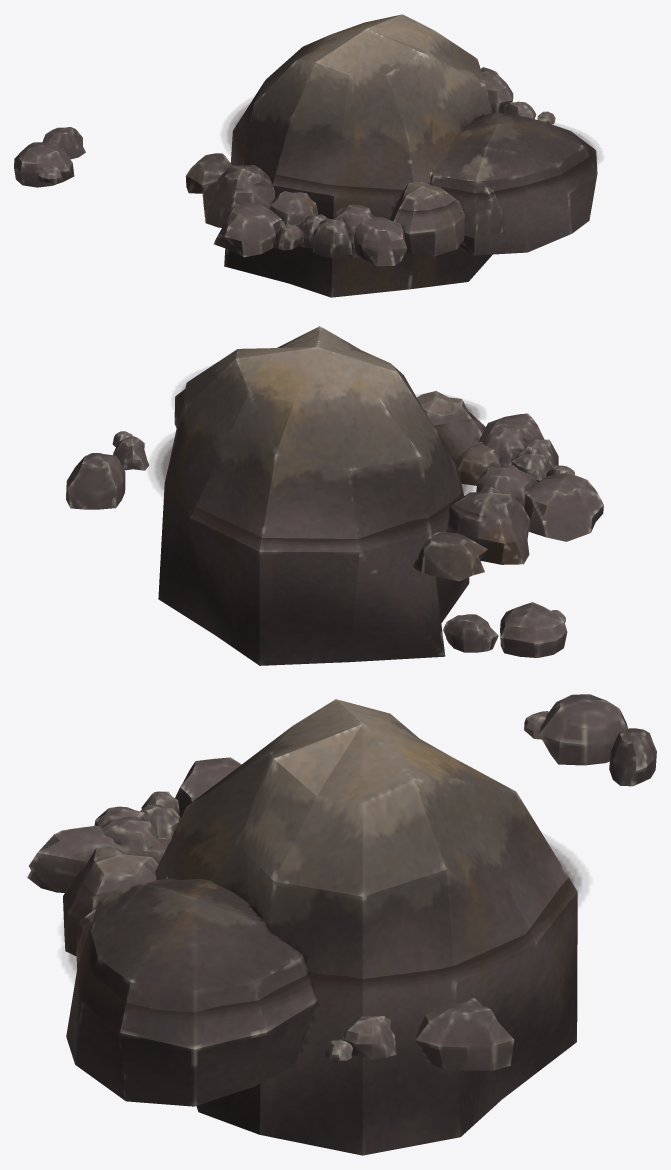
3 renders of one model, top to bottom at view 1: azimuth 30°, elevation 25°; view 2: azimuth 150°, elevation 25°; view 3: azimuth 270°, elevation 25°, orthographic. The views are drawn at different scales.
Parts seen in each view (by area): view 1: Stones, GroundShade; view 2: Stones, GroundShade; view 3: Stones, GroundShade.
Part boxes in pixels (left/top/right/bottom): Stones: left=14, top=14, right=597, bottom=297; GroundShade: left=220, top=99, right=601, bottom=216; Stones: left=66, top=326, right=603, bottom=665; GroundShade: left=149, top=368, right=526, bottom=547; Stones: left=27, top=694, right=656, bottom=1155; GroundShade: left=63, top=835, right=587, bottom=1017.
Bounding box in the file's own units: 26.16 × 12.32 × 20.45.
Materials: 2 (2 with a texture image).
